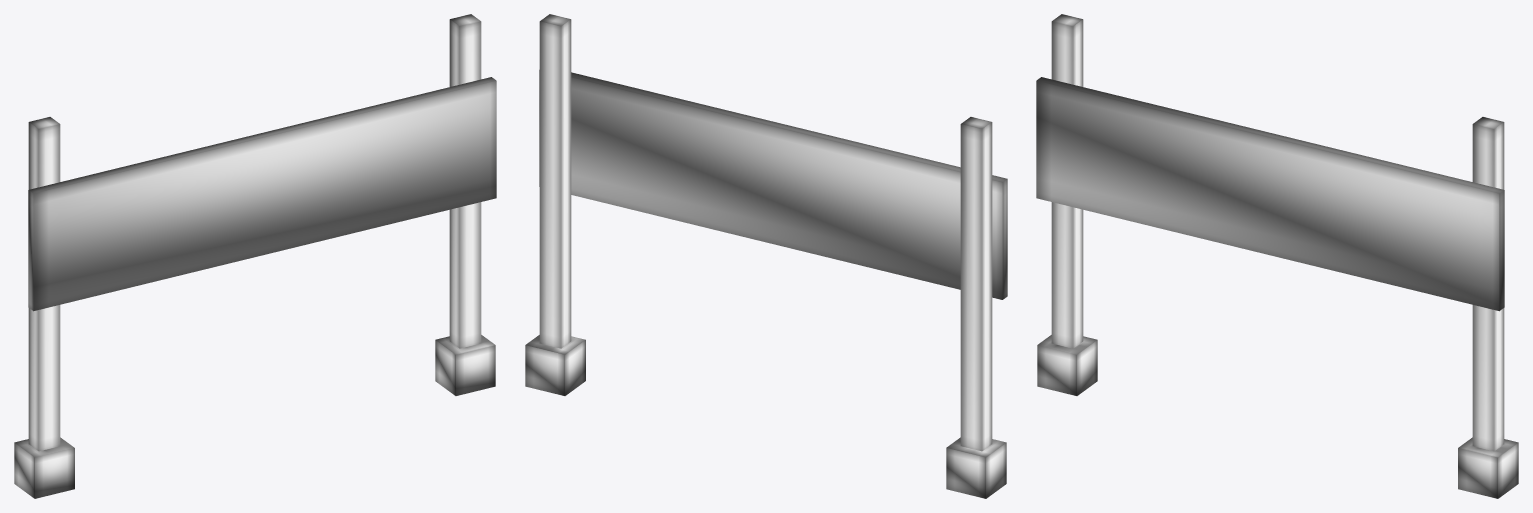
File: Barrier-01.fbx
3 views of the same model, side by side, from view 1: azimuth 30°, elevation 25°; view 2: azimuth 150°, elevation 25°; view 3: azimuth 330°, elevation 25° (orthographic).
Parts seen in each view (by area): view 1: Barrier-05; view 2: Barrier-05; view 3: Barrier-05.
Boxes of the visible parts, bbox=[...] form: Barrier-05: bbox=[14, 14, 496, 498]; Barrier-05: bbox=[525, 14, 1007, 498]; Barrier-05: bbox=[1036, 14, 1518, 498].
Bounding box in the file's own units: 1 × 0.75 × 0.0773.
